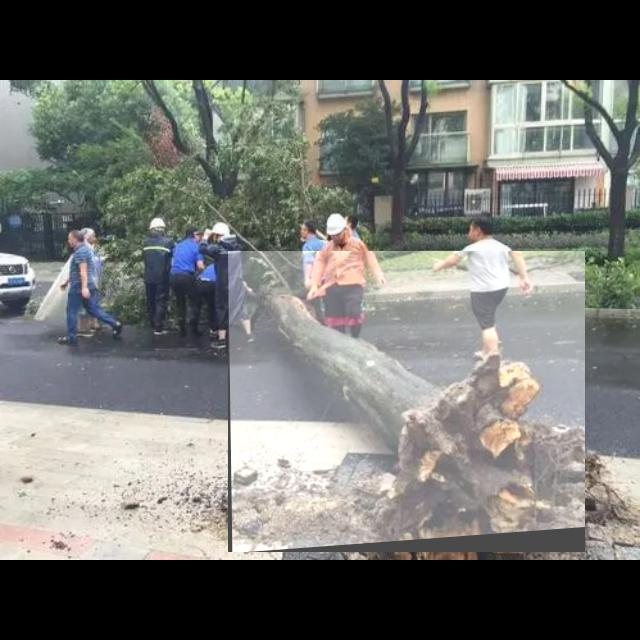Fallen Tree: (228, 251, 586, 553)
